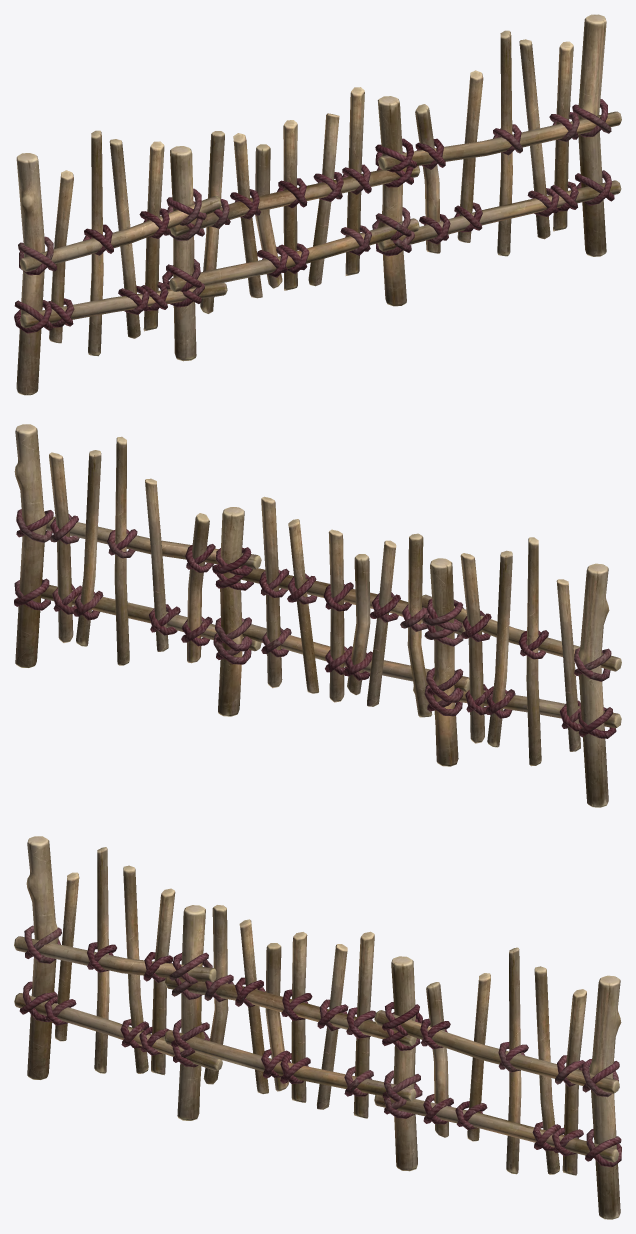
The picture shows the model from 3 angles, top to bottom: view 1: azimuth 30°, elevation 25°; view 2: azimuth 150°, elevation 25°; view 3: azimuth 330°, elevation 25°; orthographic projection.
Parts seen in each view (by area): view 1: SM_Garou_Set_SM_SpikeFence_03_4x4_LOD0; view 2: SM_Garou_Set_SM_SpikeFence_03_4x4_LOD0; view 3: SM_Garou_Set_SM_SpikeFence_03_4x4_LOD0.
Boxes of the visible parts, left/top/right/bottom form: SM_Garou_Set_SM_SpikeFence_03_4x4_LOD0: left=14, top=14, right=621, bottom=395; SM_Garou_Set_SM_SpikeFence_03_4x4_LOD0: left=14, top=424, right=621, bottom=807; SM_Garou_Set_SM_SpikeFence_03_4x4_LOD0: left=14, top=836, right=621, bottom=1219.
Size of the model in its own units: 4.01 by 1.58 by 0.2958.
1 material, 1 textured.
